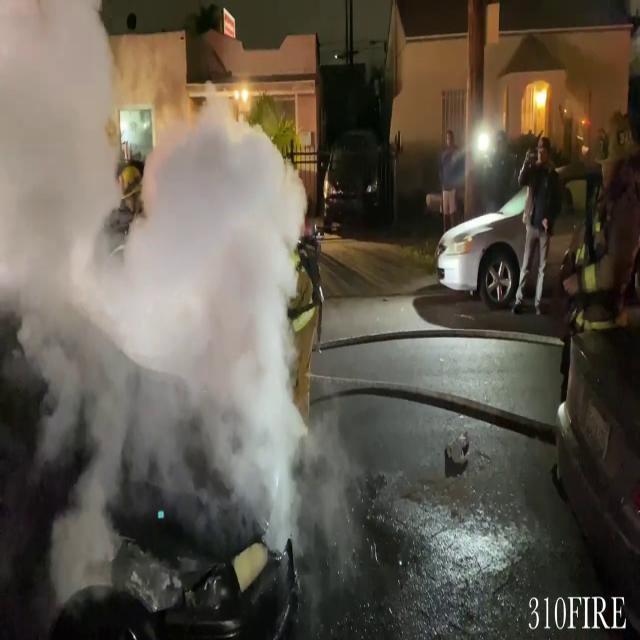Smoke: (0, 2, 356, 565)
